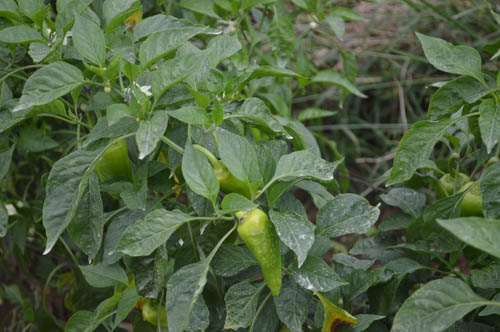ChiliPepper: (240, 210, 282, 296)
